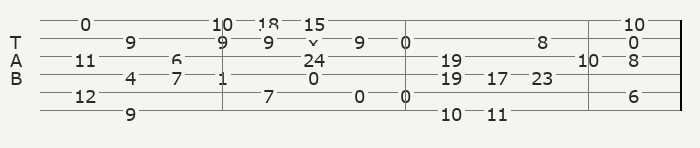0: (80, 12, 95, 29), (308, 66, 323, 83), (354, 84, 369, 101), (400, 30, 415, 47), (400, 84, 415, 101), (628, 30, 643, 47)
1: (217, 66, 232, 83)
10: (211, 12, 237, 29), (440, 102, 466, 119), (577, 48, 603, 65), (623, 12, 649, 29)
11: (74, 48, 100, 65), (486, 102, 512, 119)
12: (74, 84, 100, 101)
15: (303, 12, 329, 29)
17: (486, 66, 512, 83)
18: (257, 12, 283, 29)
19: (440, 66, 466, 83), (440, 48, 466, 65)
23: (531, 66, 557, 83)
24: (303, 48, 329, 65)
4: (125, 66, 140, 83)
6: (171, 48, 186, 65), (628, 84, 643, 101)
7: (171, 66, 186, 83), (263, 84, 278, 101)
8: (537, 30, 552, 47), (628, 48, 643, 65)
9: (125, 102, 140, 119), (125, 30, 140, 47), (217, 30, 232, 47), (263, 30, 278, 47), (354, 30, 369, 47)
x: (308, 31, 323, 45)
